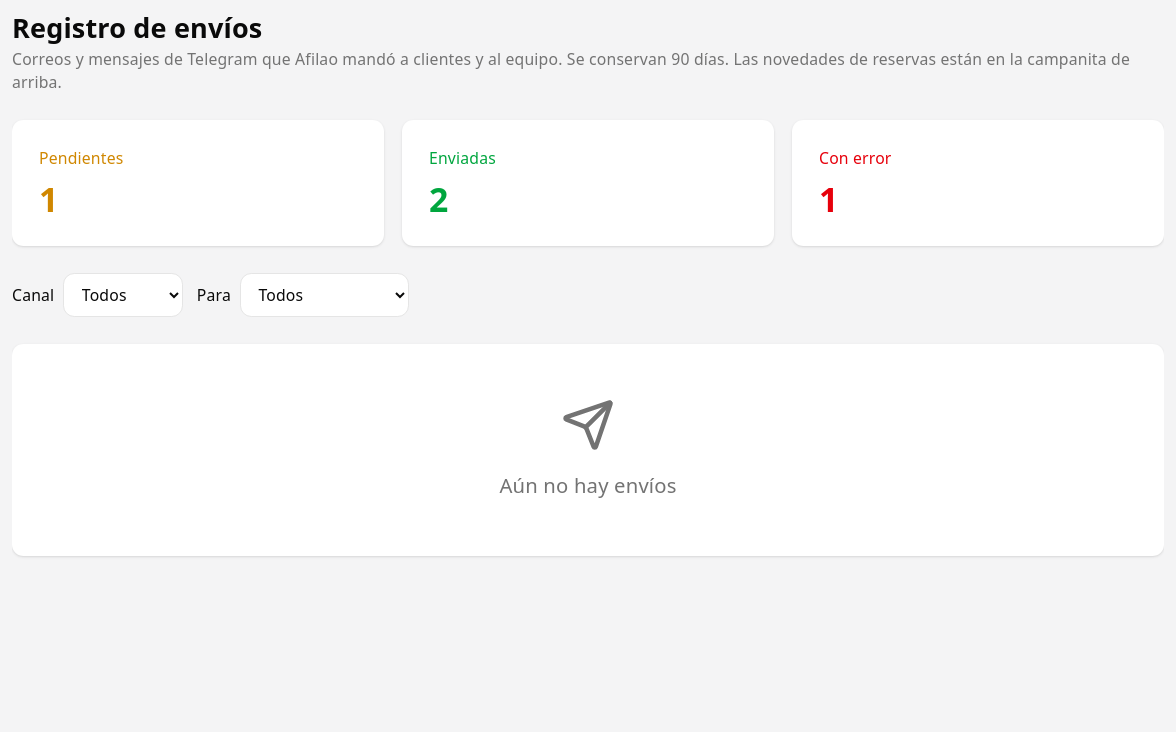
Test case: Registro de envíos › sin envíos lo dice, distinguiendo si hay filtros
expect the text "Aún no hay envíos" is shown: met, box [499,471,677,499]
Select "Correo" in the dropdown labelled "Canal" at {"x": 123, "y": 295}, box [63,273,183,317]
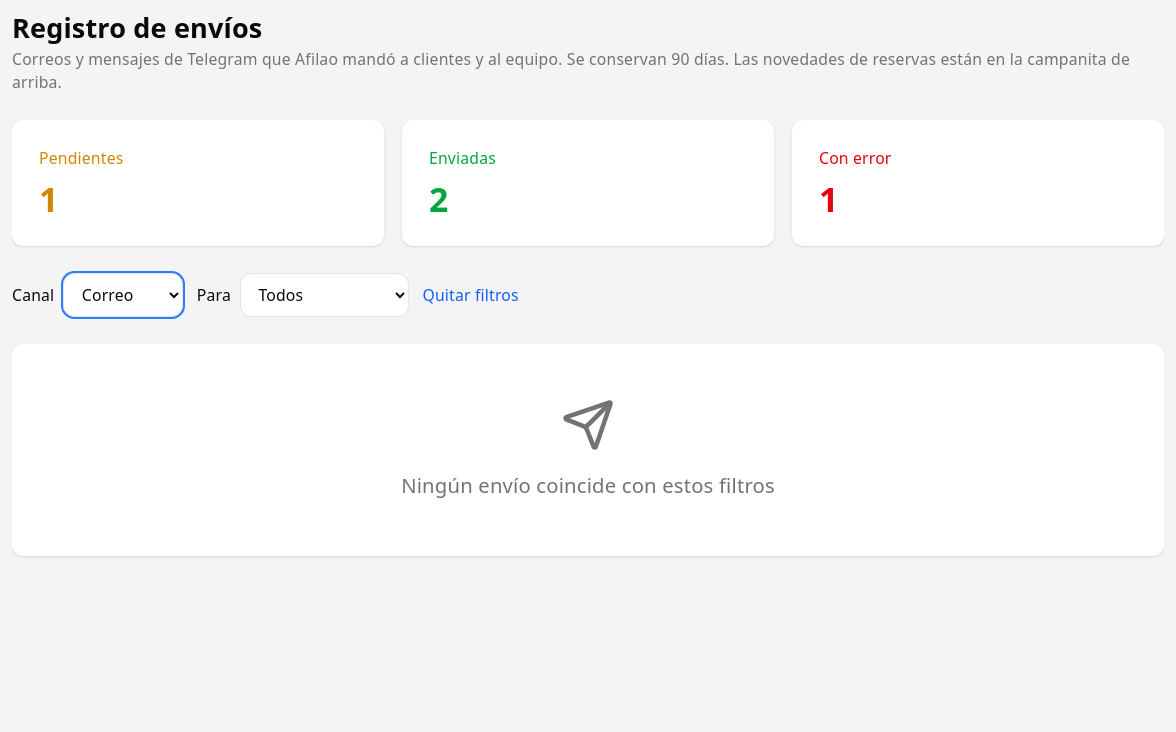
expect the text "Ningún envío coincide con estos filtros" is shown: met, box [401,471,775,499]
